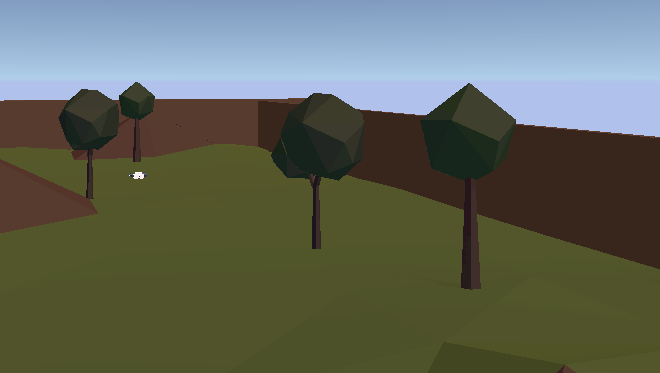tree: (421, 83, 516, 293), (270, 92, 366, 251), (54, 89, 119, 198), (119, 82, 156, 162)
